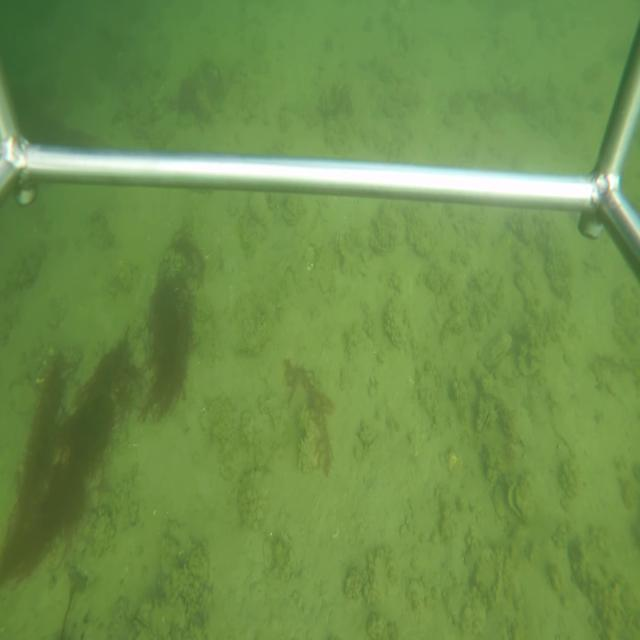Oyster-Closed: (476, 330, 513, 369), (474, 395, 494, 434)
Oyster-Open: (506, 480, 535, 524)
